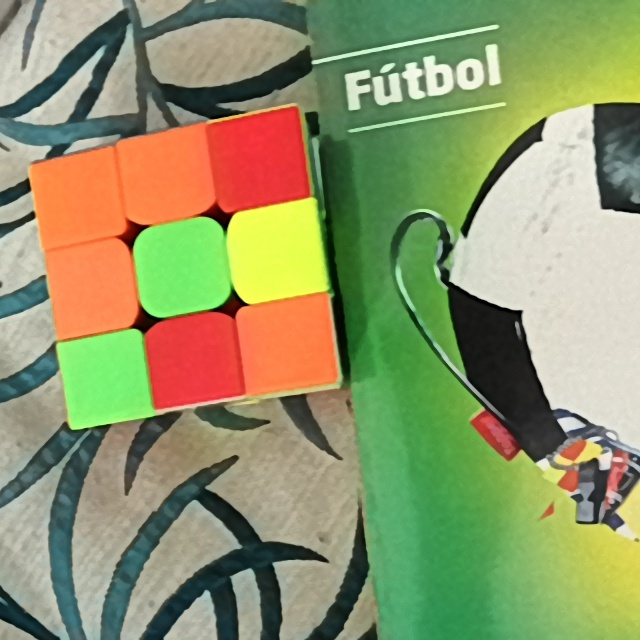tile: (218, 125, 301, 196), (246, 307, 327, 379), (239, 214, 316, 288), (127, 141, 204, 209), (149, 230, 220, 303), (158, 325, 231, 396), (43, 162, 113, 234), (57, 254, 128, 324), (70, 344, 138, 413)
